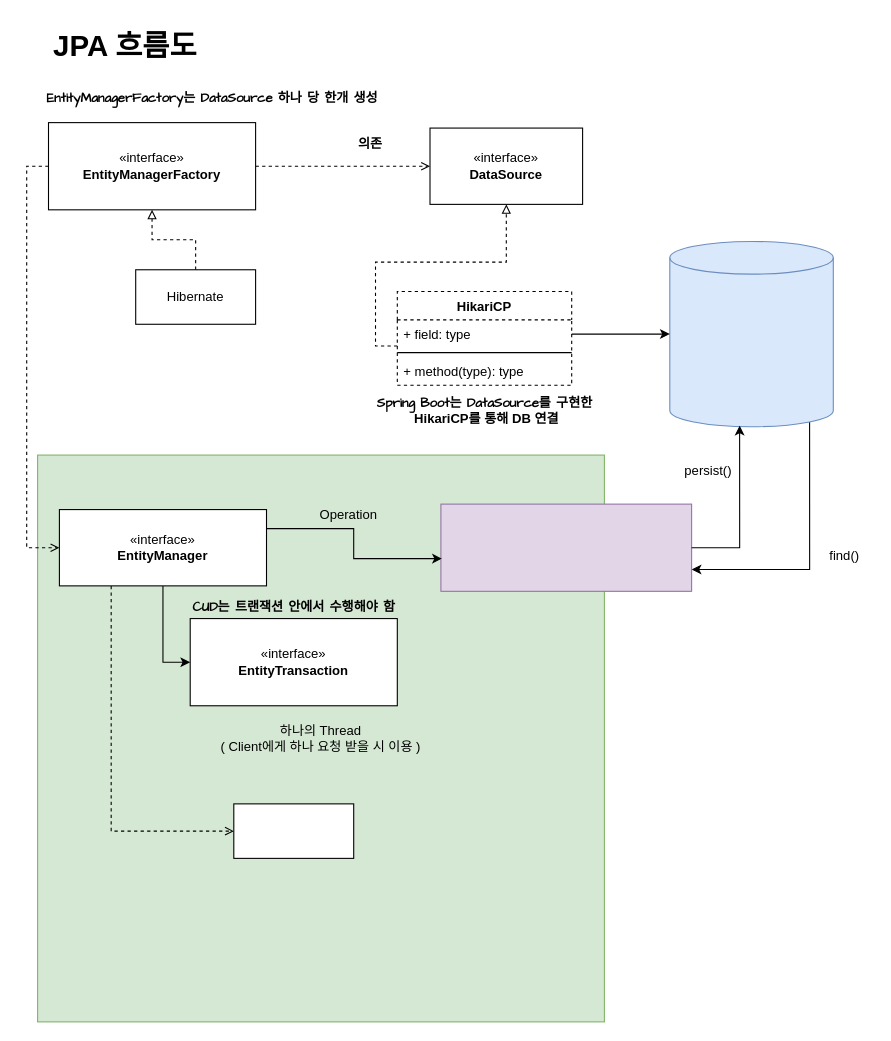
Image size: 891x1041. Some labels were removed from this diagram. The shapes that lost their labels are listed below. From the top down, each one's box as (x1, y1, x2, y2) in pixels, then its label:
(669, 240, 833, 427): MySQL
(440, 503, 692, 591): Persistence Context ( 엔티티를 영구 저장하는 환경 )
(233, 803, 354, 858): Entity 객체
